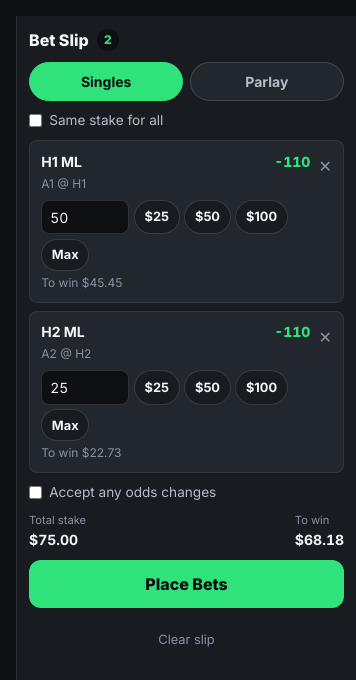
Test: BetSlip › places each single at the price it showed and shows a receipt
Click the button "Place Bets": (186, 584) [29,560,344,608]
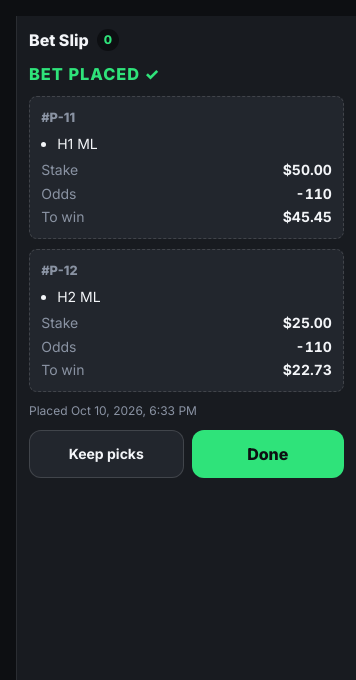
expect the heading "BET PLACED ✓" is shown: met, box [29,64,160,84]
expect the text "#P-11" is shown: met, box [41,110,75,125]
expect the text "#P-12" is shown: met, box [41,263,78,278]
